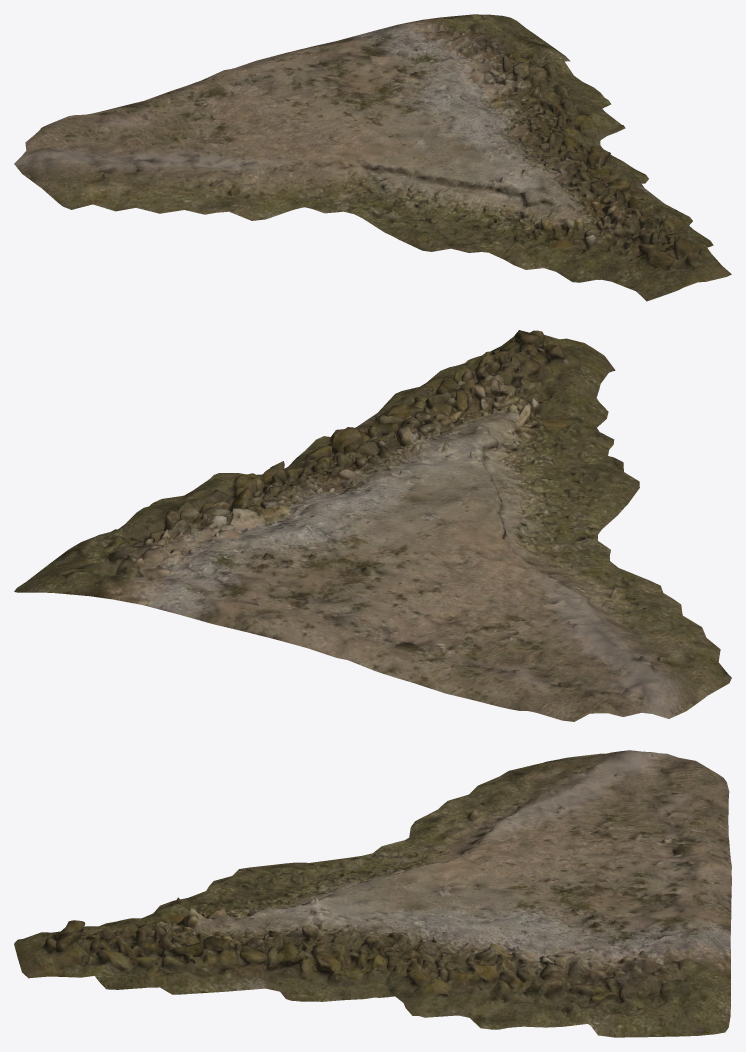
The model's file is coast_rocks_02.glb.
The picture shows the model from 3 angles, top to bottom: view 1: azimuth 30°, elevation 25°; view 2: azimuth 150°, elevation 25°; view 3: azimuth 270°, elevation 25°; orthographic projection. The views are drawn at different scales.
Parts seen in each view (by area): view 1: coast_rocks_02; view 2: coast_rocks_02; view 3: coast_rocks_02.
Boxes of the visible parts, box(x1,y1,x2,y2) form: coast_rocks_02: box(14, 14, 731, 301); coast_rocks_02: box(14, 330, 731, 721); coast_rocks_02: box(14, 750, 731, 1037).
Size of the model in its own units: 45.95 by 3.16 by 49.46.
1 material, 1 textured.
